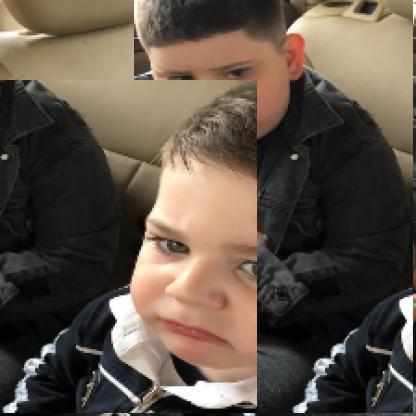child: (135, 1, 415, 415), (1, 81, 259, 415)
